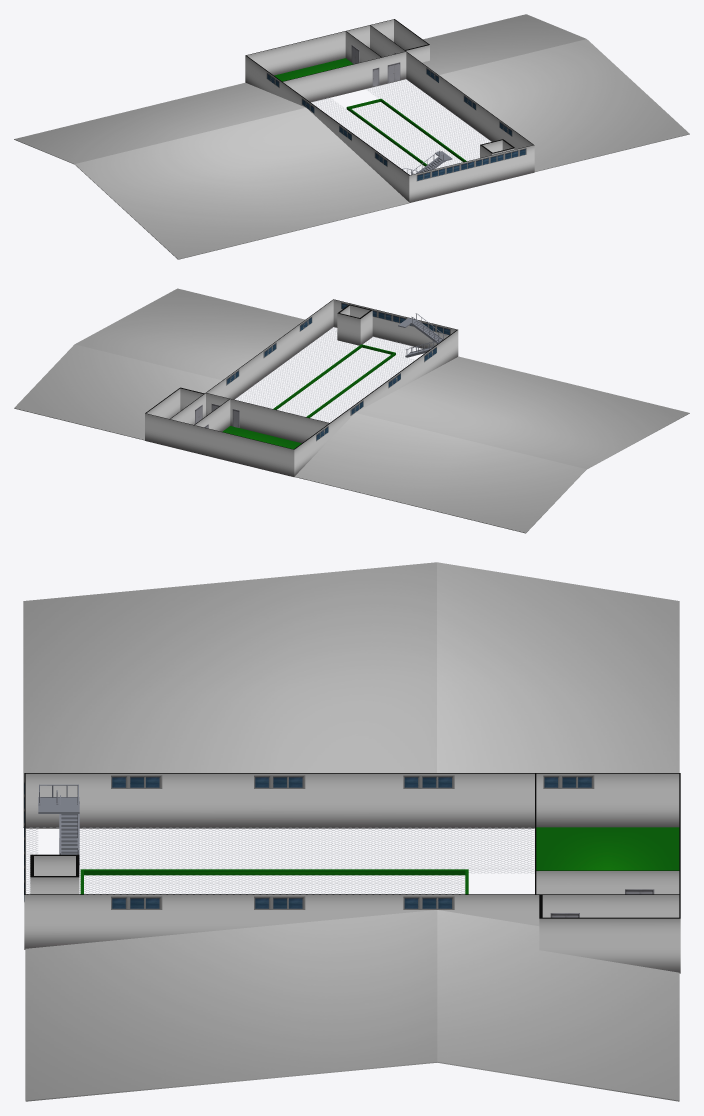
The model's file is soulbrain_T6-1-3F.glb.
3 views of the same model, one above another, from view 1: azimuth 30°, elevation 25°; view 2: azimuth 150°, elevation 25°; view 3: azimuth 270°, elevation 25° (orthographic). The views are drawn at different scales.
Parts seen in each view (by area): view 1: T6-1-3F, Shape001, Box276, Box277; view 2: T6-1-3F, Shape001, Box277, Line103; view 3: T6-1-3F, Shape001, Box277, Line103.
Boxes of the visible parts, x1,y1,x2,y2 form: T6-1-3F: [14, 14, 689, 259]; Shape001: [274, 58, 466, 166]; Box276: [351, 45, 400, 86]; Box277: [480, 139, 515, 157]; T6-1-3F: [14, 288, 689, 533]; Shape001: [222, 344, 395, 449]; Box277: [337, 304, 372, 345]; Line103: [398, 313, 447, 357]; T6-1-3F: [23, 562, 680, 1101]; Shape001: [80, 827, 679, 894]; Box277: [30, 854, 79, 894]; Line103: [38, 784, 79, 864].
Size of the model in its own units: 70.16 by 4.87 by 39.02.
Materials: 9 (8 with a texture image).
